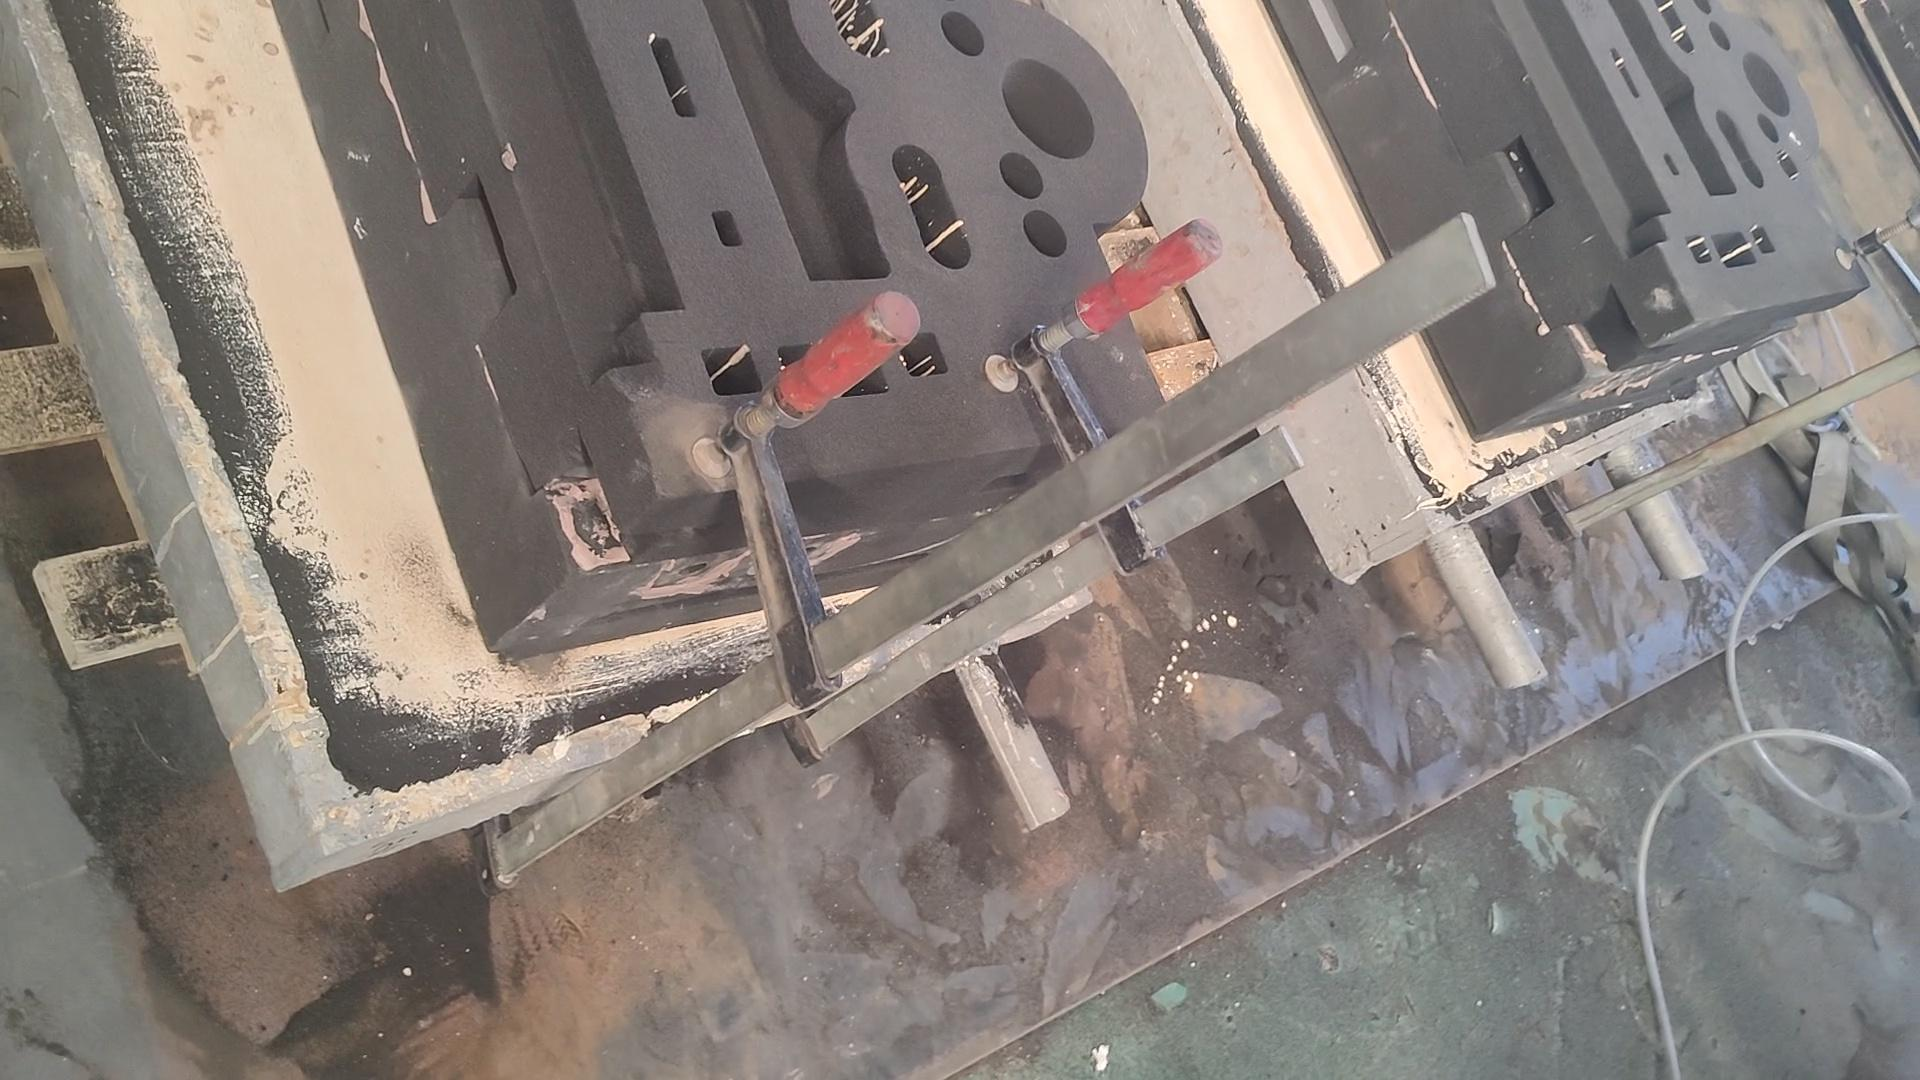pouring hole: (1000, 55, 1097, 161), (1741, 51, 1791, 117)
